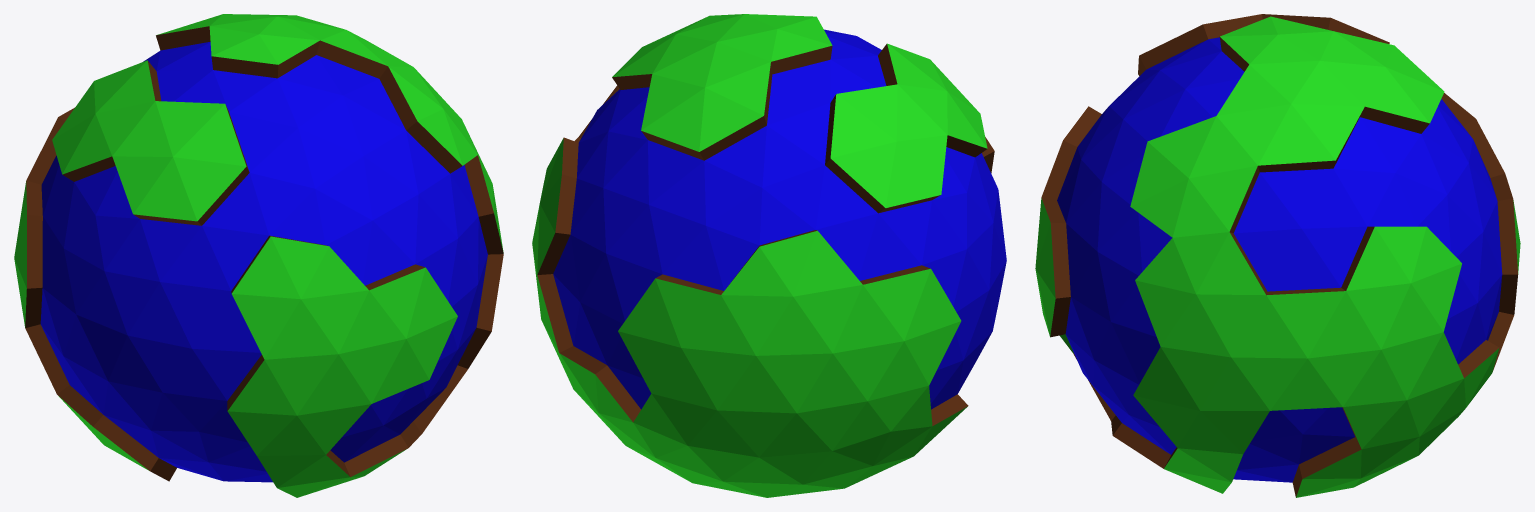
Rendered from planet.glb.
3 views of the same model, side by side, from view 1: azimuth 30°, elevation 25°; view 2: azimuth 150°, elevation 25°; view 3: azimuth 270°, elevation 25° (orthographic).
Parts seen in each view (by area): view 1: planet; view 2: planet; view 3: planet.
Part boxes in pixels (<box>): planet: <box>14,14,503,497</box>; planet: <box>532,14,1006,497</box>; planet: <box>1035,14,1520,497</box>.
Bounding box in the file's own units: 52.72 × 52.54 × 53.08.
